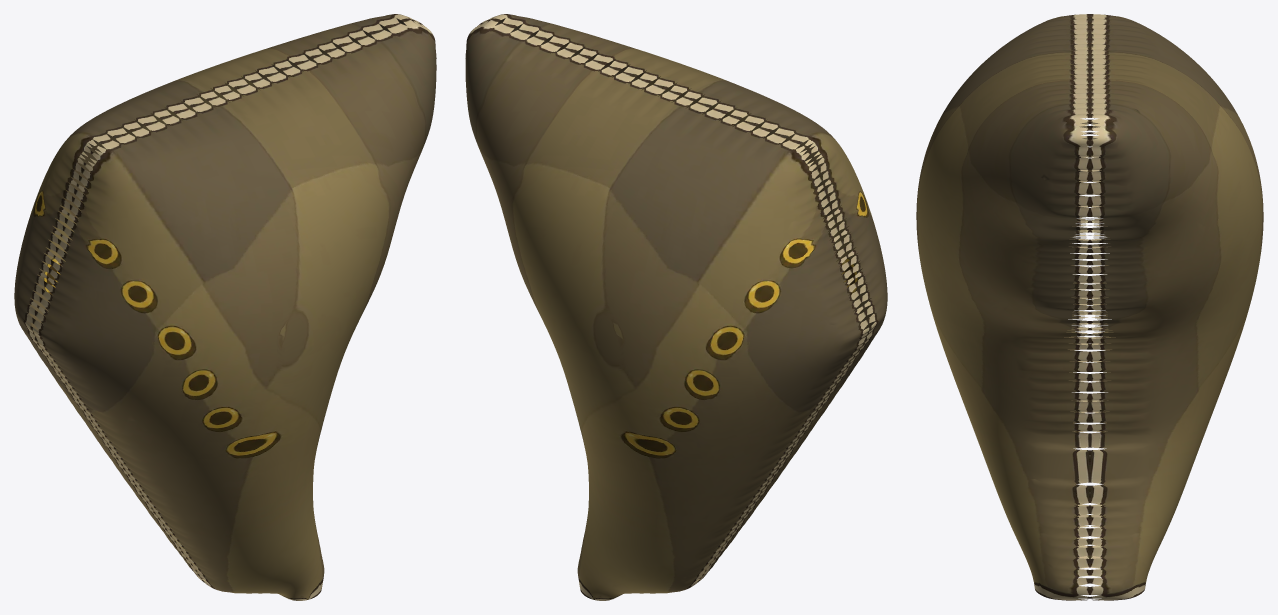
Rendered from pit_wall.glb.
3 views of the same model, side by side, from view 1: azimuth 30°, elevation 25°; view 2: azimuth 150°, elevation 25°; view 3: azimuth 270°, elevation 25° (orthographic).
Visible parts, largest first — view 1: pit_wall; view 2: pit_wall; view 3: pit_wall.
Part boxes in pixels (box(x1,y1,x2,y2)): pit_wall: box(14, 14, 436, 600); pit_wall: box(465, 14, 887, 600); pit_wall: box(916, 14, 1263, 600).
Bounding box in the file's own units: 0.9856 × 1.26 × 0.7405.
Materials: 1 (1 with a texture image).
